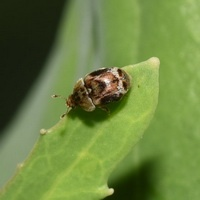insect: (61, 67, 130, 117)
